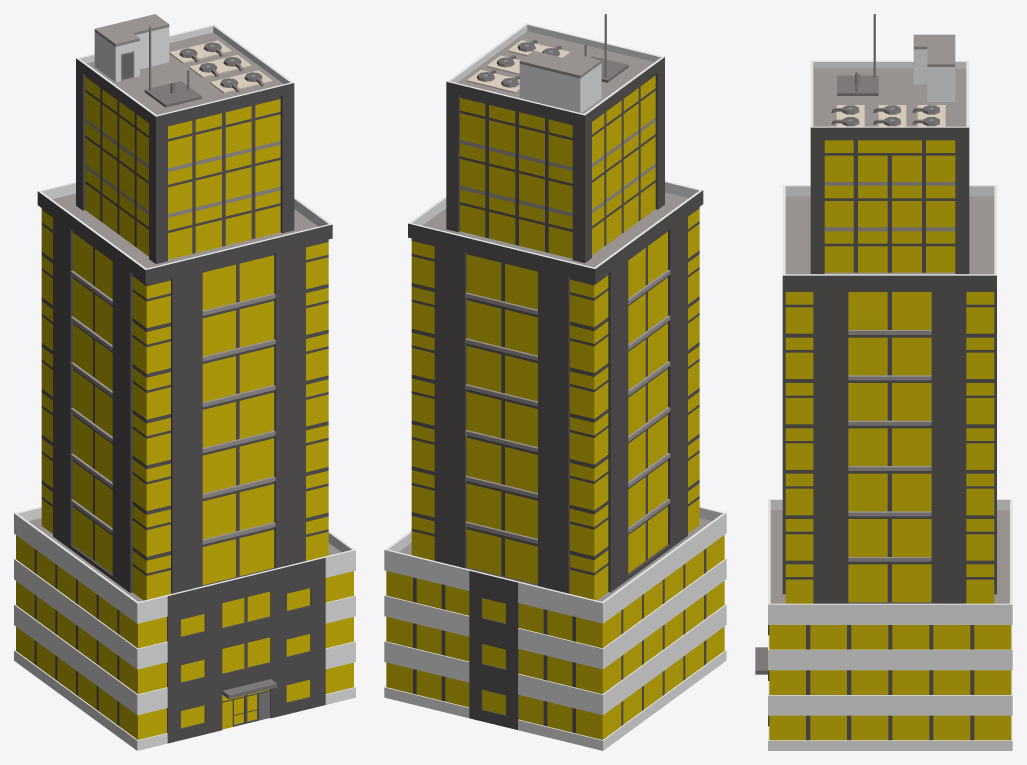
The model's file is Building_17.fbx.
3 renders of one model, left to right at view 1: azimuth 30°, elevation 25°; view 2: azimuth 150°, elevation 25°; view 3: azimuth 270°, elevation 25°, orthographic.
Parts seen in each view (by area): view 1: building-office-pyramid.002, building-office-pyramid.001, building-office-pyramid; view 2: building-office-pyramid.002, building-office-pyramid.001, building-office-pyramid; view 3: building-office-pyramid.002, building-office-pyramid.001, building-office-pyramid.
Part boxes in pixels (box(x1,y1,x2,y2)): building-office-pyramid.002: box(37, 182, 332, 600); building-office-pyramid.001: box(14, 506, 355, 750); building-office-pyramid: box(76, 14, 294, 263); building-office-pyramid.002: box(408, 181, 703, 600); building-office-pyramid.001: box(384, 506, 726, 750); building-office-pyramid: box(446, 14, 664, 262); building-office-pyramid.002: box(782, 185, 996, 603); building-office-pyramid.001: box(755, 499, 1012, 750); building-office-pyramid: box(810, 14, 969, 273).
Bounding box in the file's own units: 8.44 × 24.66 × 8.67.
